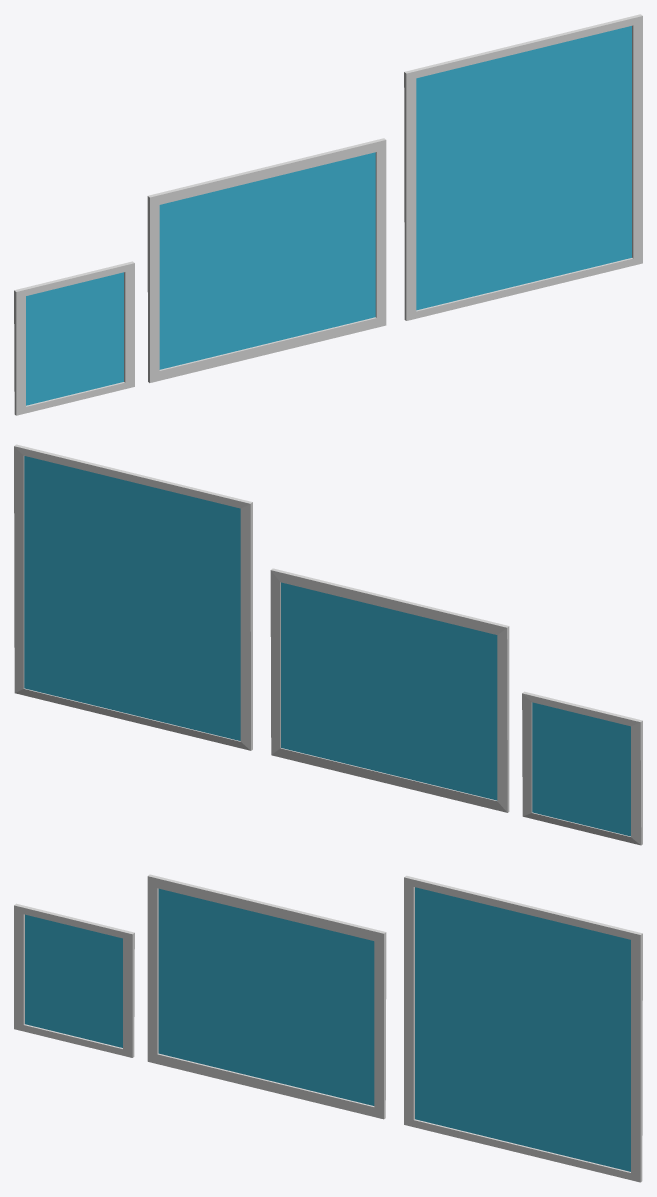
Rendered from Windows.fbx.
3 renders of one model, top to bottom at view 1: azimuth 30°, elevation 25°; view 2: azimuth 150°, elevation 25°; view 3: azimuth 330°, elevation 25°, orthographic.
Parts seen in each view (by area): view 1: Window_L, Window_M, Windows_S; view 2: Window_L, Window_M, Windows_S; view 3: Window_L, Window_M, Windows_S.
Boxes of the visible parts, x1=… form: Window_L: x1=404, y1=14, x2=642, y2=320; Window_M: x1=147, y1=138, x2=386, y2=382; Windows_S: x1=14, y1=261, x2=134, y2=415; Window_L: x1=14, y1=444, x2=252, y2=750; Window_M: x1=270, y1=568, x2=509, y2=812; Windows_S: x1=522, y1=691, x2=642, y2=845; Window_L: x1=404, y1=875, x2=642, y2=1182; Window_M: x1=147, y1=874, x2=386, y2=1119; Windows_S: x1=14, y1=903, x2=134, y2=1057.
Size of the model in its own units: 530 by 3.45 by 200.
